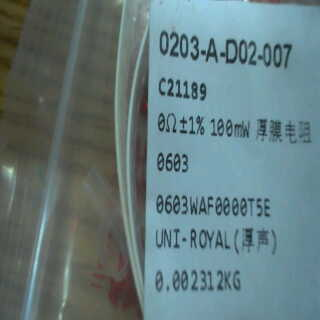0R: (156, 102, 252, 180)
